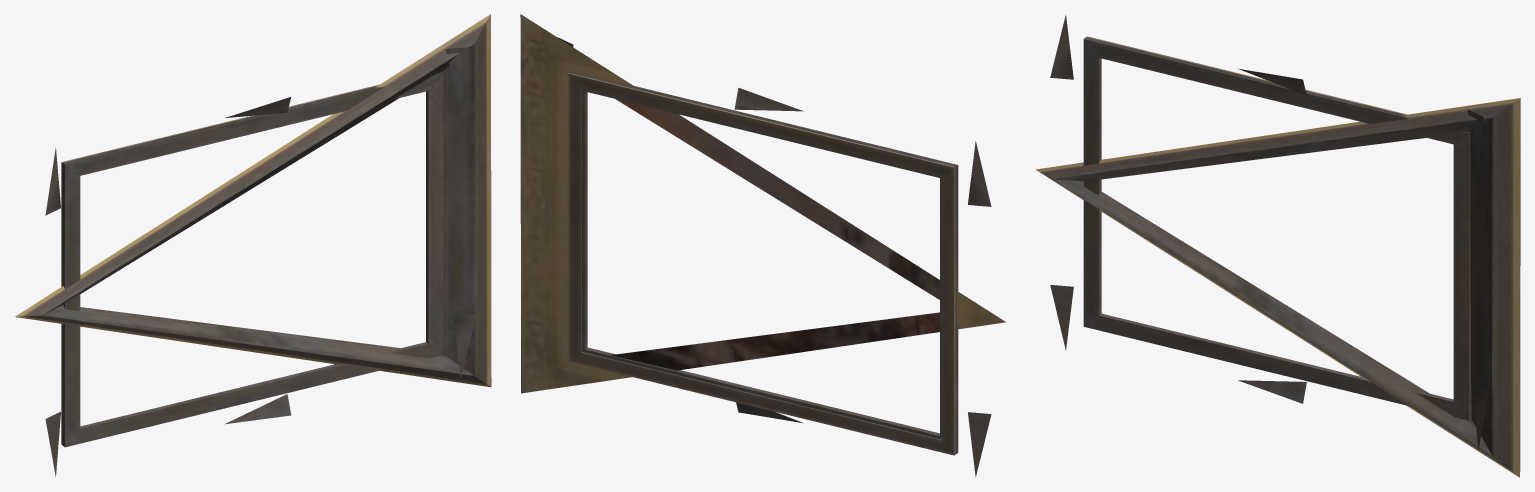
Rendered from painting-landscape-large.lod1.glb.
3 renders of one model, left to right at view 1: azimuth 30°, elevation 25°; view 2: azimuth 150°, elevation 25°; view 3: azimuth 330°, elevation 25°, orthographic.
Visible parts, largest first — view 1: painting-landscape-large; view 2: painting-landscape-large; view 3: painting-landscape-large.
Boxes of the visible parts, x1=… form: painting-landscape-large: x1=15, y1=14, x2=491, y2=477; painting-landscape-large: x1=520, y1=14, x2=1005, y2=477; painting-landscape-large: x1=1035, y1=15, x2=1520, y2=477.
Size of the model in its own units: 1.11 by 0.8284 by 0.0416.
1 material, 1 textured.
